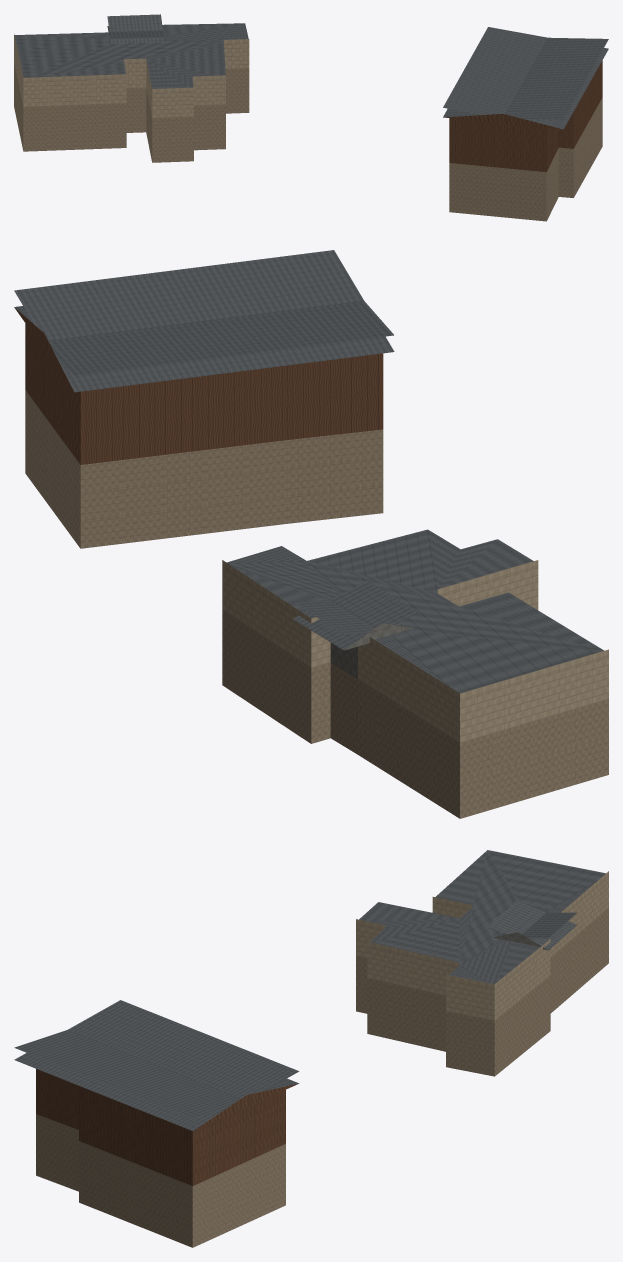
Rendered from bld_c38_46_196.gltf.
3 views of the same model, one above another, from view 1: azimuth 30°, elevation 25°; view 2: azimuth 150°, elevation 25°; view 3: azimuth 270°, elevation 25° (orthographic). The views are drawn at different scales.
Visible parts, largest first — view 1: bld_c38_46_196; view 2: bld_c38_46_196; view 3: bld_c38_46_196.
Part boxes in pixels (box(x1,y1,x2,y2)): bld_c38_46_196: box(14, 14, 608, 221); bld_c38_46_196: box(14, 250, 608, 818); bld_c38_46_196: box(14, 850, 608, 1247).
Bounding box in the file's own units: 50.28 × 10.9 × 44.25.
8 materials, 8 textured.
